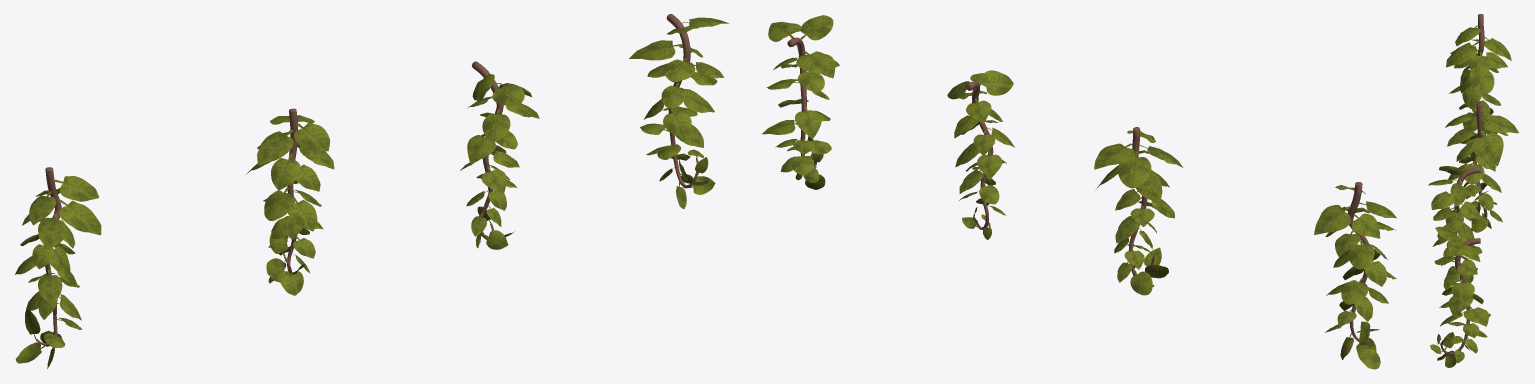
Rendered from Vines_01.fbx.
3 views of the same model, side by side, from view 1: azimuth 30°, elevation 25°; view 2: azimuth 150°, elevation 25°; view 3: azimuth 270°, elevation 25° (orthographic). The views are drawn at different scales.
Parts seen in each view (by area): view 1: Vine_03, Vine_04, Vine_01, Vine_02; view 2: Vine_04, Vine_03, Vine_01, Vine_02; view 3: Vine_03, Vine_01, Vine_04, Vine_02.
Part boxes in pixels (box(x1,y1,x2,y2)): Vine_03: box(246, 108, 334, 295); Vine_04: box(15, 167, 101, 368); Vine_01: box(629, 14, 728, 208); Vine_02: box(460, 61, 539, 249); Vine_04: box(1314, 182, 1396, 369); Vine_03: box(1094, 127, 1183, 295); Vine_01: box(762, 15, 839, 189); Vine_02: box(947, 70, 1014, 239); Vine_03: box(1445, 102, 1518, 232); Vine_01: box(1430, 226, 1490, 367); Vine_04: box(1446, 14, 1511, 155); Vine_02: box(1428, 166, 1480, 295).
Size of the model in its own units: 7.04 by 2.02 by 1.1.
